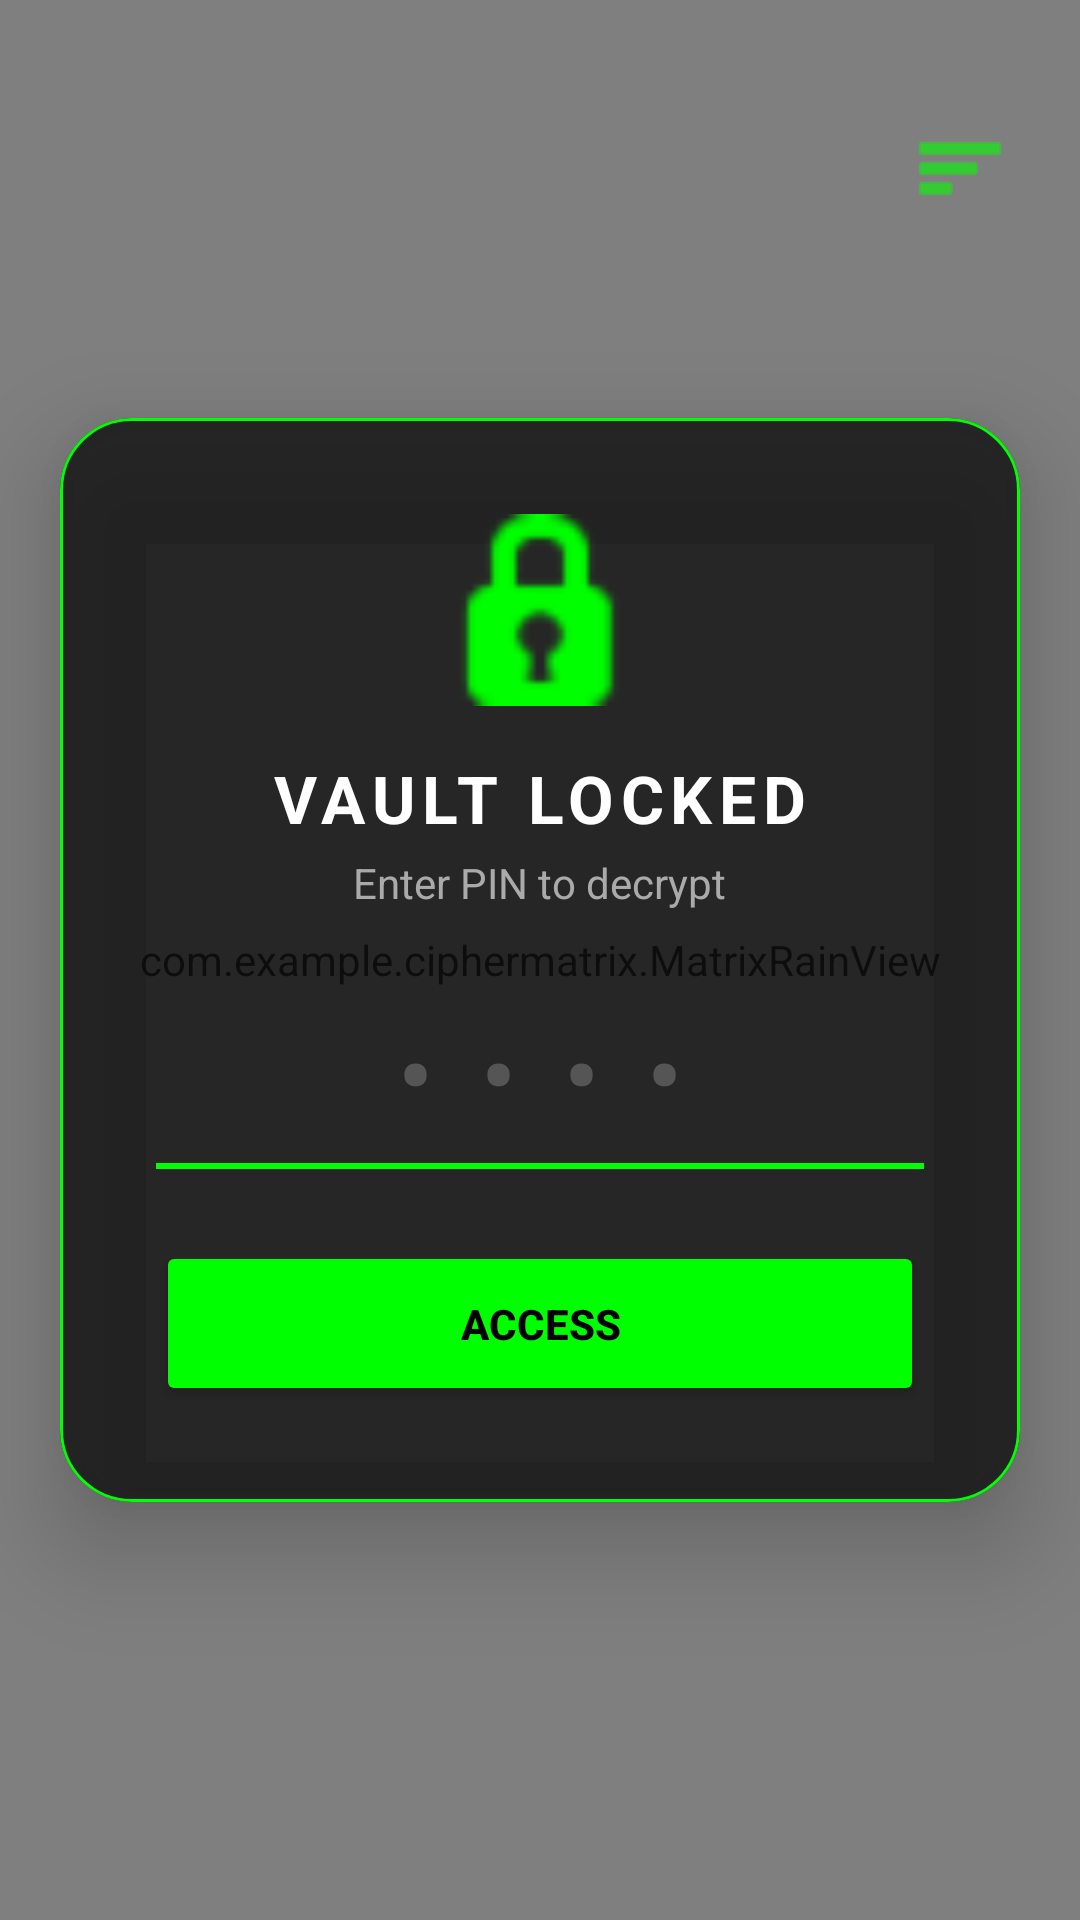

Named icons in this screenshot (1080×1920) and their bounding boxes, rect(x1, y1, x2, y2):
Menu button: rect(919, 142, 1001, 195)
Secure icon: rect(463, 514, 615, 706)
